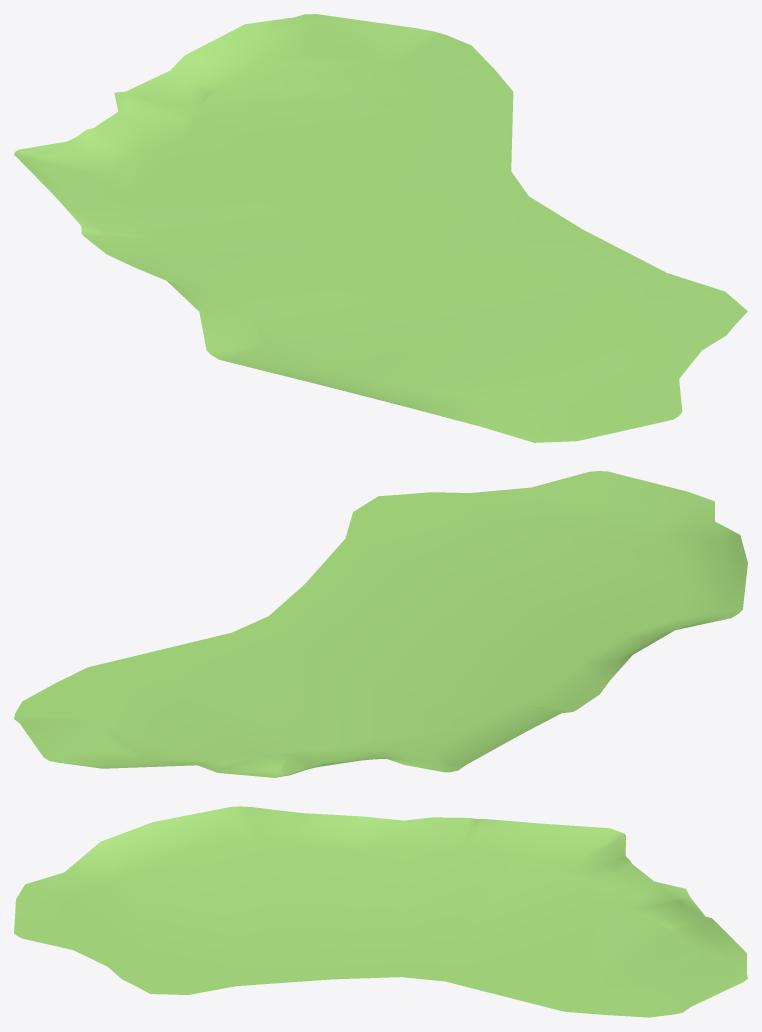
File: IslandPlayer2.001.fbx
3 views of the same model, one above another, from view 1: azimuth 30°, elevation 25°; view 2: azimuth 150°, elevation 25°; view 3: azimuth 270°, elevation 25° (orthographic). The views are drawn at different scales.
Parts seen in each view (by area): view 1: IslandPlayer2.001; view 2: IslandPlayer2.001; view 3: IslandPlayer2.001.
Boxes of the visible parts, box(x1,y1,x2,y2) form: IslandPlayer2.001: box(14, 14, 747, 442); IslandPlayer2.001: box(14, 471, 747, 777); IslandPlayer2.001: box(14, 806, 747, 1017).
Bounding box in the file's own units: 47.38 × 1.65 × 29.31.
